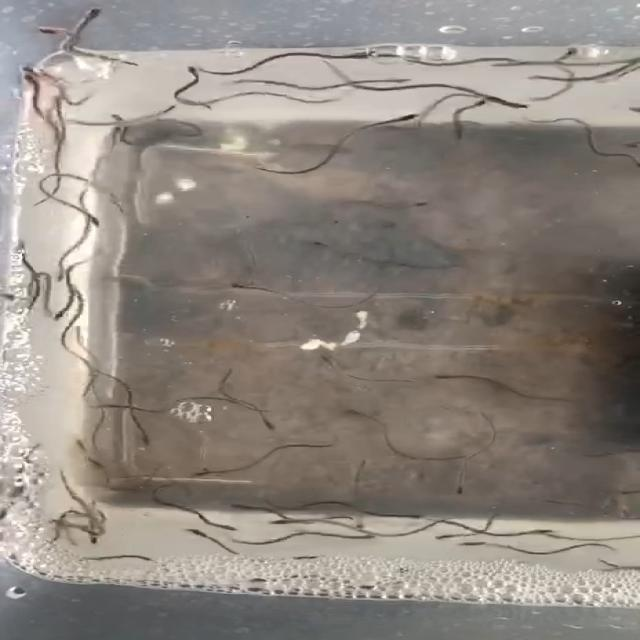inactive_glass_eel: (282, 224, 358, 256), (429, 470, 486, 506), (66, 3, 134, 31), (66, 207, 134, 234), (55, 521, 116, 551), (330, 400, 391, 429), (332, 45, 392, 73), (37, 296, 90, 325), (185, 467, 241, 492), (218, 277, 274, 302), (7, 67, 64, 91), (459, 93, 506, 122), (125, 427, 175, 453), (162, 61, 214, 86), (513, 513, 555, 542), (299, 352, 356, 371), (384, 111, 424, 138), (460, 540, 510, 561), (423, 366, 469, 388), (544, 43, 586, 66), (36, 22, 73, 44), (182, 530, 249, 542), (248, 414, 284, 435), (397, 508, 440, 525), (260, 516, 302, 532), (423, 527, 466, 542), (225, 500, 274, 512)
